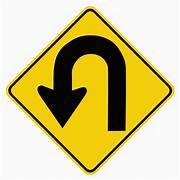back: (5, 4, 175, 176)
